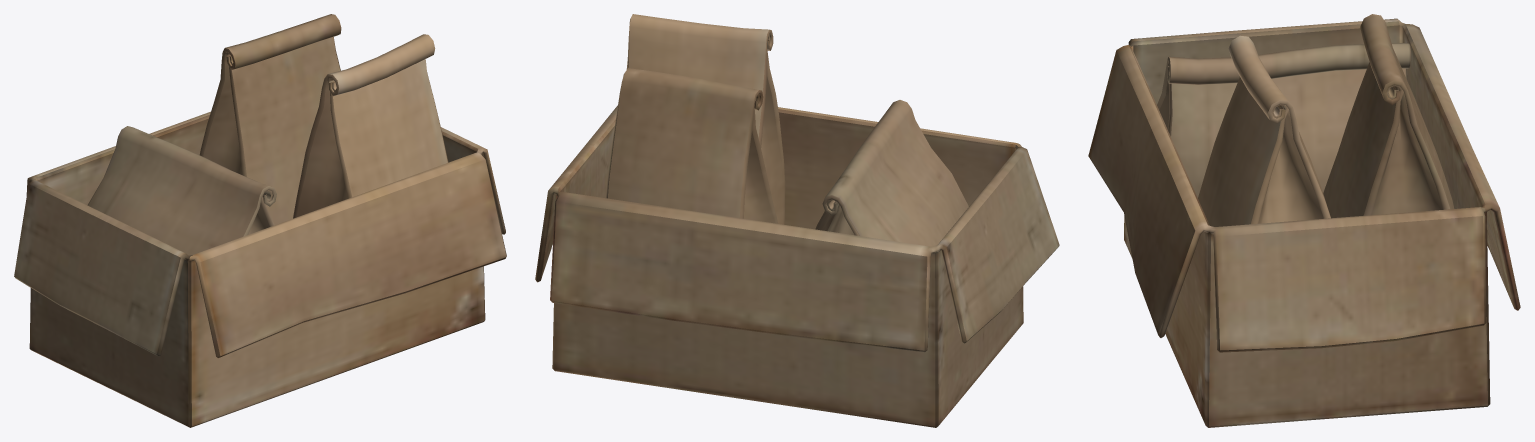
The model's file is prop_small_004.glb.
The picture shows the model from 3 angles, left to right: view 1: azimuth 30°, elevation 25°; view 2: azimuth 150°, elevation 25°; view 3: azimuth 270°, elevation 25°; orthographic projection. The views are drawn at different scales.
Parts seen in each view (by area): view 1: Building_12_008; view 2: Building_12_008; view 3: Building_12_008.
Part boxes in pixels (x1,y1,x2,y2): Building_12_008: [14, 14, 506, 427]; Building_12_008: [535, 14, 1059, 427]; Building_12_008: [1088, 14, 1520, 427].
Size of the model in its own units: 0.8 by 0.4964 by 0.6165.
1 material, 1 textured.
